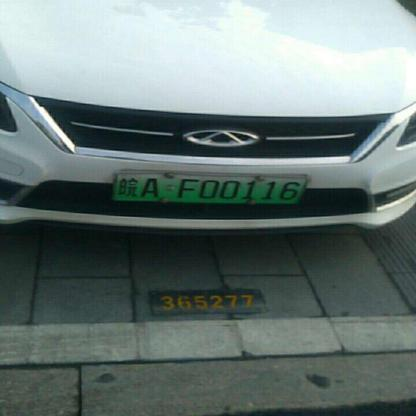lp: (114, 173, 308, 203)
